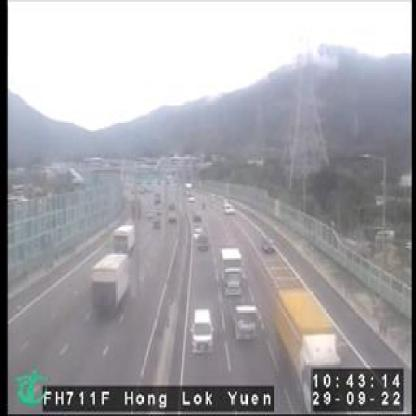Car: (230, 304, 263, 348), (190, 305, 217, 352), (257, 236, 277, 253), (194, 232, 208, 253), (221, 198, 237, 213), (190, 212, 205, 223)
Truck: (268, 289, 340, 408), (92, 253, 132, 314), (214, 243, 246, 298), (110, 218, 136, 252)
